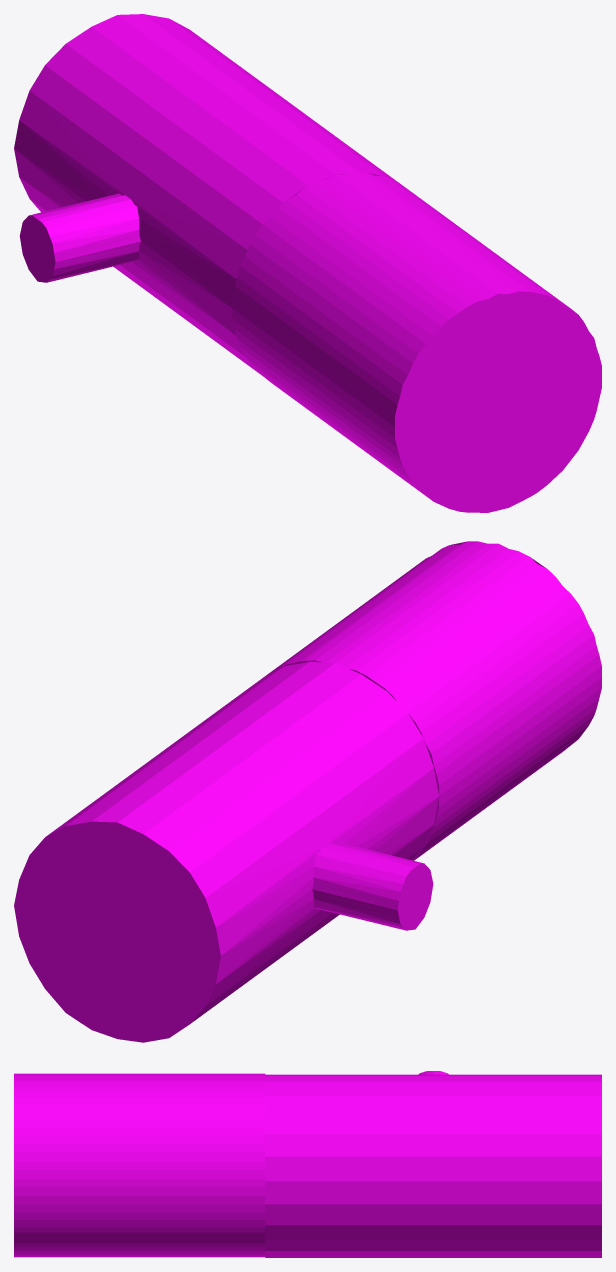
3 views of the same model, one above another, from view 1: azimuth 30°, elevation 25°; view 2: azimuth 150°, elevation 25°; view 3: azimuth 270°, elevation 25° (orthographic). The views are drawn at different scales.
Size of the model in its own units: 0.1625 by 0.115 by 0.3666.
